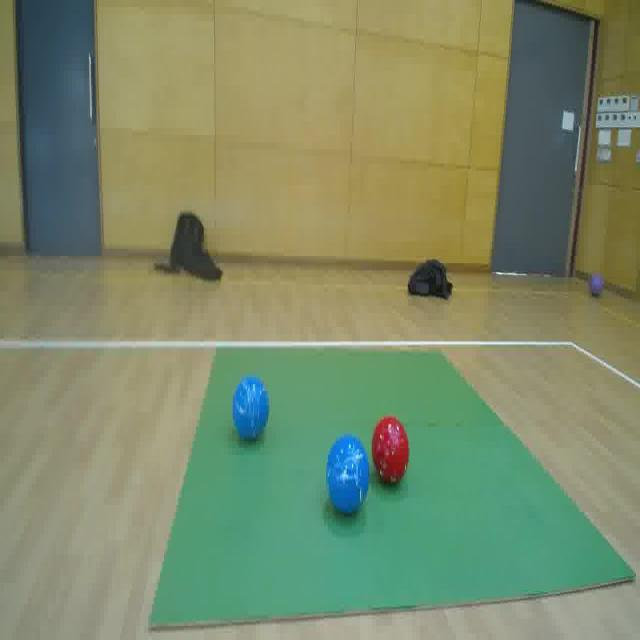blue_ball: (326, 432, 368, 511), (232, 374, 270, 438)
purple_ball: (588, 269, 606, 300)
red_ball: (370, 412, 411, 488)
